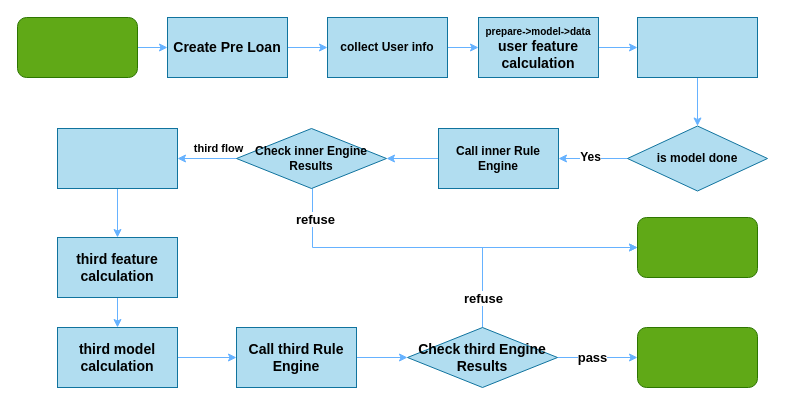
Image size: 785x405. Some labels were removed from this diagram. Here are the shapes that lost their labels. From the top down, the box of each, then its label:
(16, 16, 138, 78): Start Credit
(636, 16, 758, 78): user model calculation
(56, 128, 178, 188): collect user data from third party
(636, 216, 758, 278): output refuse credit info
(636, 326, 758, 388): output normal credit info
